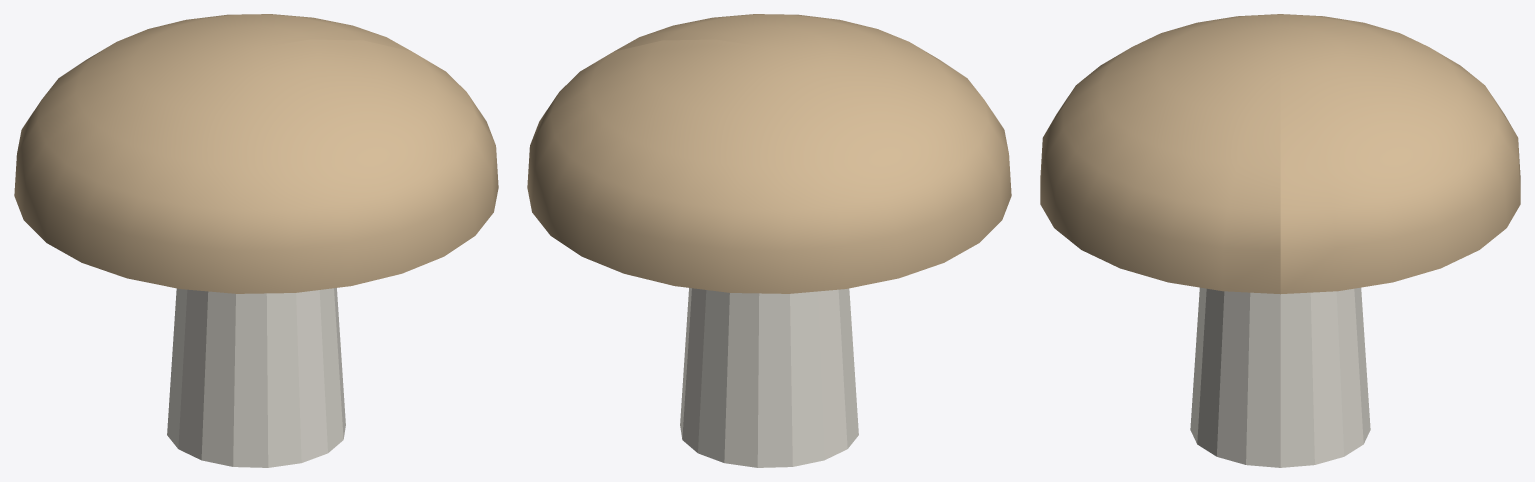
Rendered from fresh-produce-and-groceries-portobello-mushroom-bb00b854__24386.glb.
The picture shows the model from 3 angles, left to right: view 1: azimuth 30°, elevation 25°; view 2: azimuth 150°, elevation 25°; view 3: azimuth 270°, elevation 25°; orthographic projection.
Visible parts, largest first — view 1: portobello-mushroom; view 2: portobello-mushroom; view 3: portobello-mushroom.
Boxes of the visible parts, x1,y1,x2,y2 form: portobello-mushroom: (14,14,498,467); portobello-mushroom: (527,14,1011,467); portobello-mushroom: (1040,14,1520,467).
Size of the model in its own units: 0.094 by 0.0818 by 0.0933.
